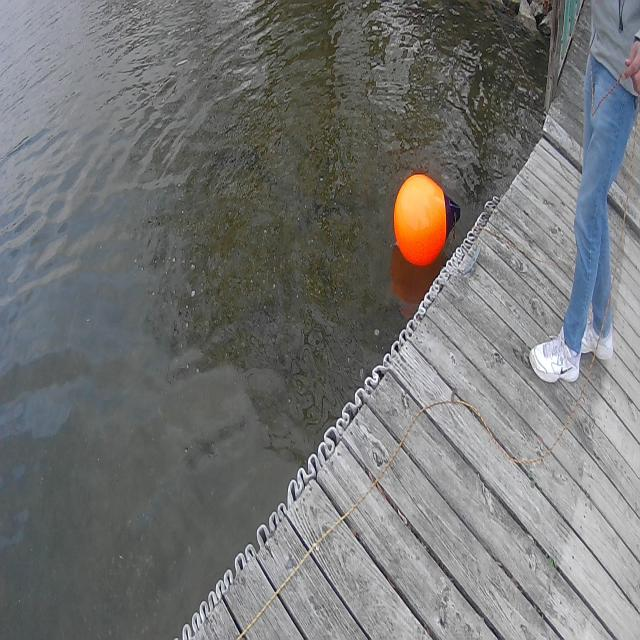Buoy: (393, 171, 447, 269)
